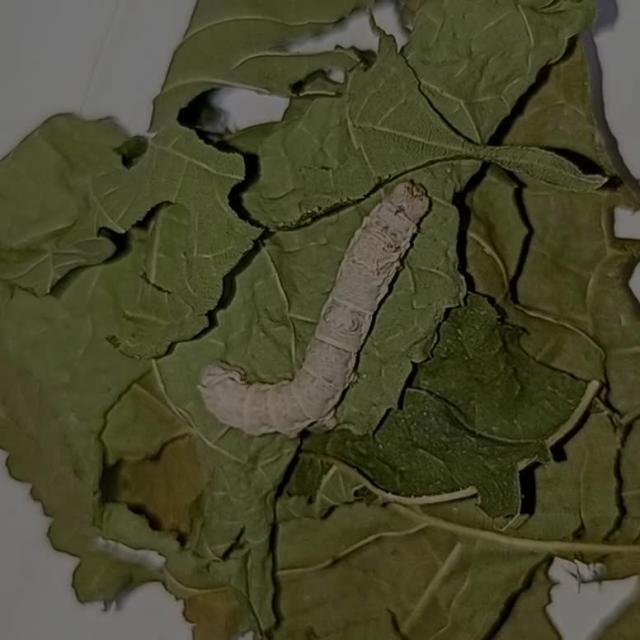Healthy: (185, 173, 438, 449)
